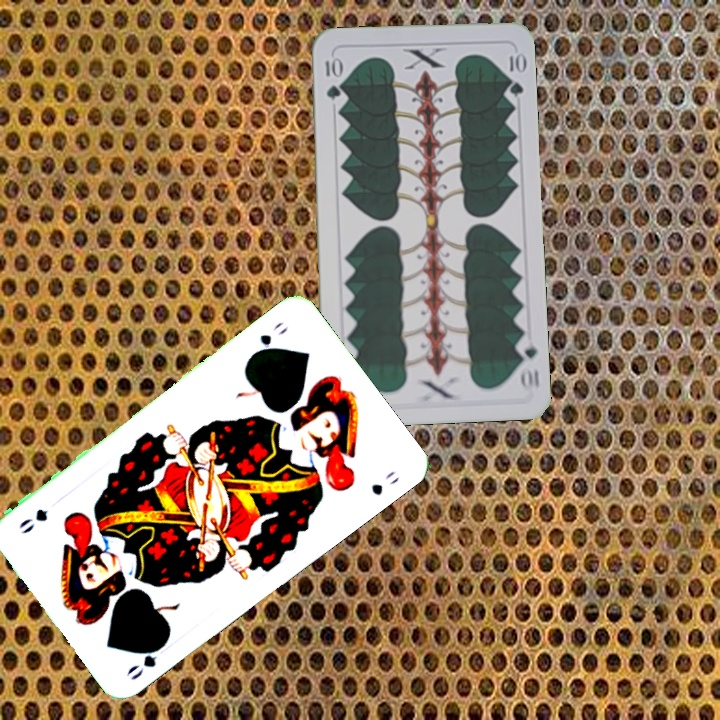G10: (513, 334, 542, 393), (321, 53, 343, 102)
GO: (122, 636, 170, 683), (247, 318, 291, 360)
